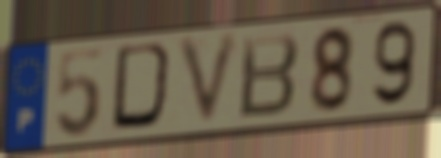5: (53, 44, 110, 142)
8: (307, 23, 357, 115)
9: (369, 19, 419, 109)
B: (236, 30, 302, 122)
D: (109, 39, 180, 134)
V: (175, 28, 245, 133)
